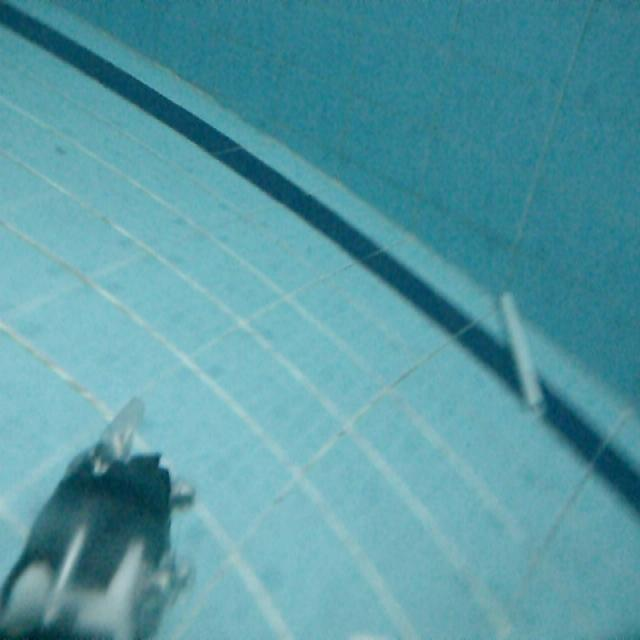Cube: (496, 291, 549, 418)
